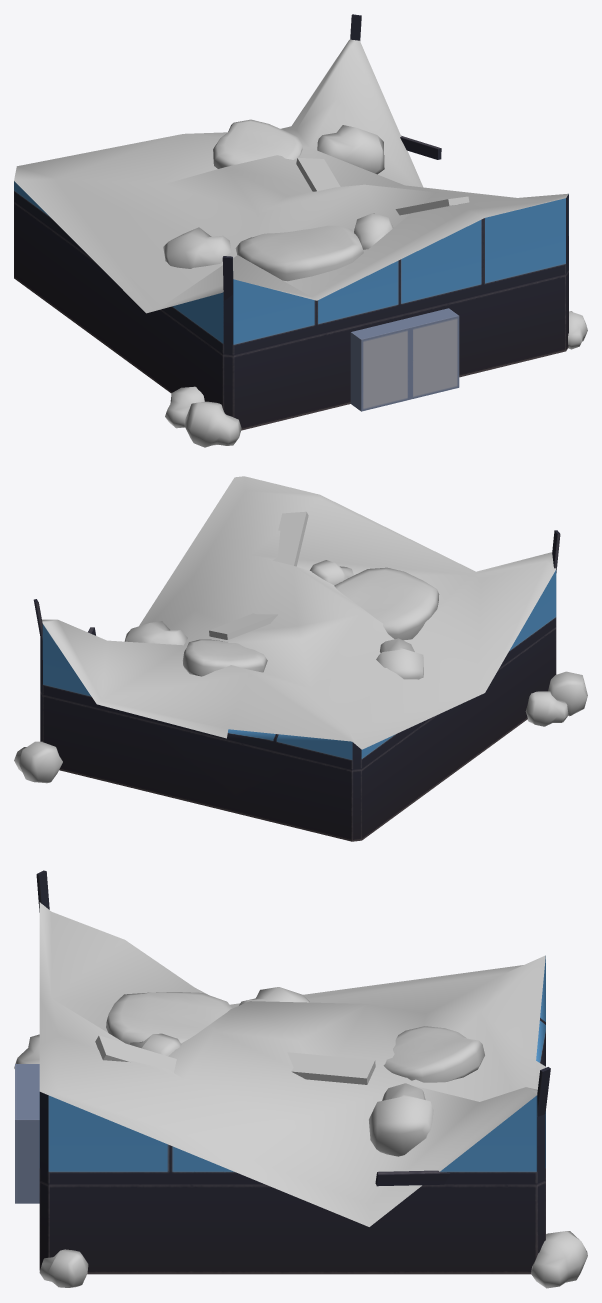
The model's file is House_6A_Ruins.fbx.
3 renders of one model, top to bottom at view 1: azimuth 30°, elevation 25°; view 2: azimuth 150°, elevation 25°; view 3: azimuth 270°, elevation 25°, orthographic. The views are drawn at different scales.
Parts seen in each view (by area): view 1: Debris, House_6A_Ruins; view 2: Debris, House_6A_Ruins; view 3: Debris, House_6A_Ruins.
Boxes of the visible parts, left/top/right/bottom form: Debris: left=14, top=39, right=587, bottom=447; House_6A_Ruins: left=14, top=14, right=568, bottom=430; Debris: left=14, top=476, right=587, bottom=783; House_6A_Ruins: left=33, top=530, right=560, bottom=841; Debris: left=14, top=902, right=587, bottom=1288; House_6A_Ruins: left=15, top=870, right=550, bottom=1274.
Bounding box in the file's own units: 264 × 116 × 276.
